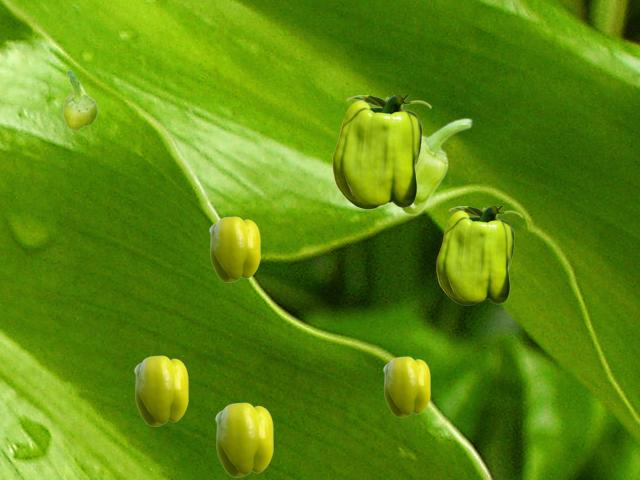bell_pepper: (332, 95, 430, 208), (436, 206, 521, 304), (390, 117, 472, 215), (215, 402, 272, 476), (134, 355, 187, 425), (209, 216, 259, 281), (383, 356, 429, 416), (62, 70, 97, 130)
